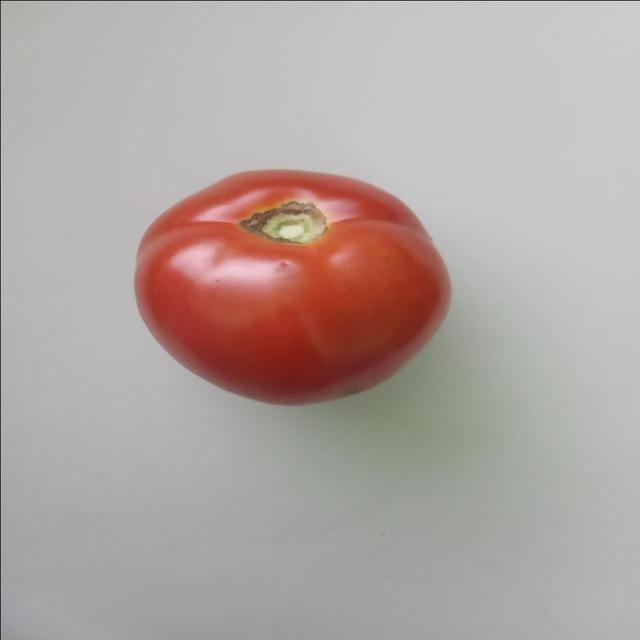Healthy Fruit: (86, 112, 300, 272)
